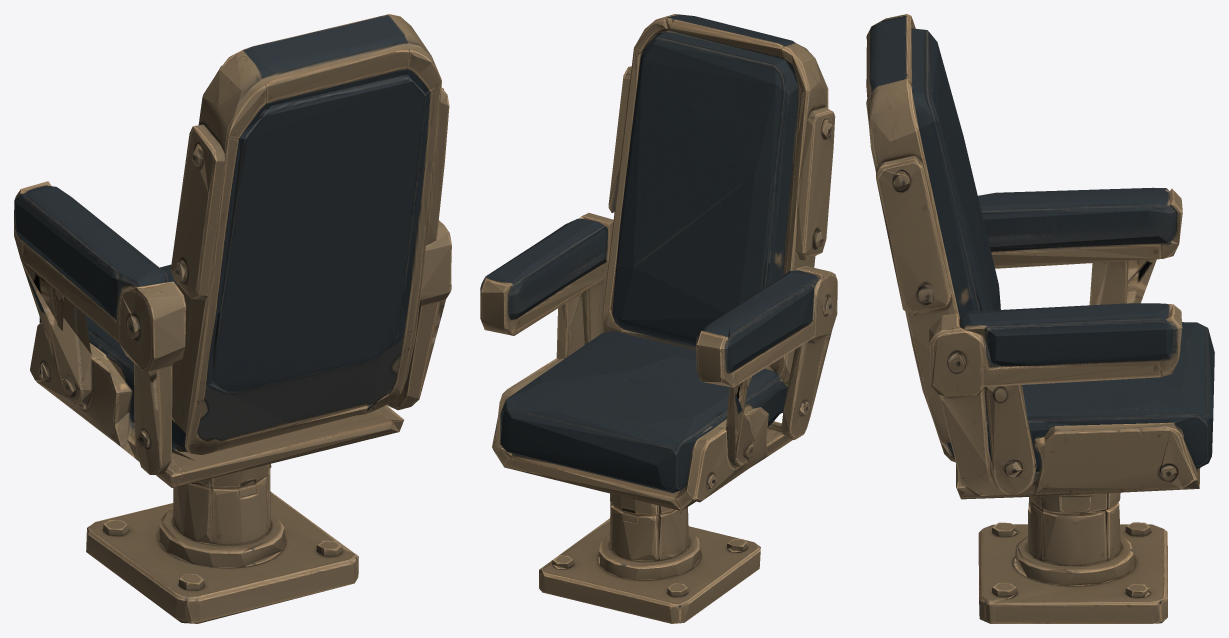
The model's file is kreslo-pilota.glb.
The picture shows the model from 3 angles, left to right: view 1: azimuth 30°, elevation 25°; view 2: azimuth 150°, elevation 25°; view 3: azimuth 270°, elevation 25°; orthographic projection. The views are drawn at different scales.
Parts seen in each view (by area): view 1: kreslo-pilota; view 2: kreslo-pilota; view 3: kreslo-pilota.
Boxes of the visible parts, <box> form: kreslo-pilota: <box>14,14,451,623</box>; kreslo-pilota: <box>480,14,837,623</box>; kreslo-pilota: <box>866,14,1214,623</box>.
Size of the model in its own units: 0.65 by 1.2 by 0.7.
1 material, 1 textured.
